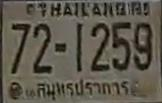1: (75, 22, 82, 72)
2: (90, 22, 109, 70), (33, 23, 51, 72), (33, 22, 51, 68)
5: (111, 22, 130, 70)
7: (10, 23, 29, 73)
9: (133, 22, 151, 70)
SPK: (35, 78, 133, 100)
